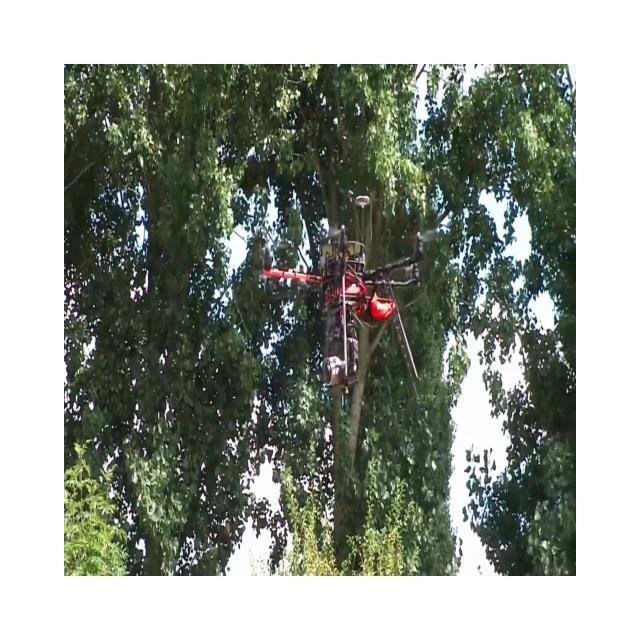drone: (256, 192, 438, 396)
